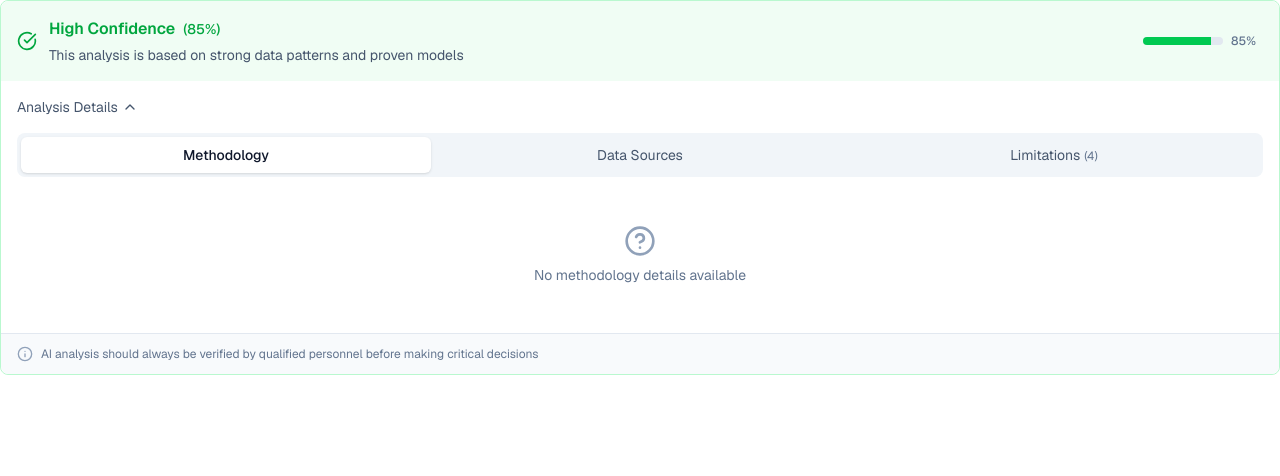
Test: AiConfidenceIndicator › Expandable Details › should show limitations by default
The width and height of the screenshot is (1280, 476).
What coordinates should you click on to do the following:
click the button "Limitations(4)"
I would click on:
 (1054, 155)
Its box is left=849, top=137, right=1259, bottom=173.
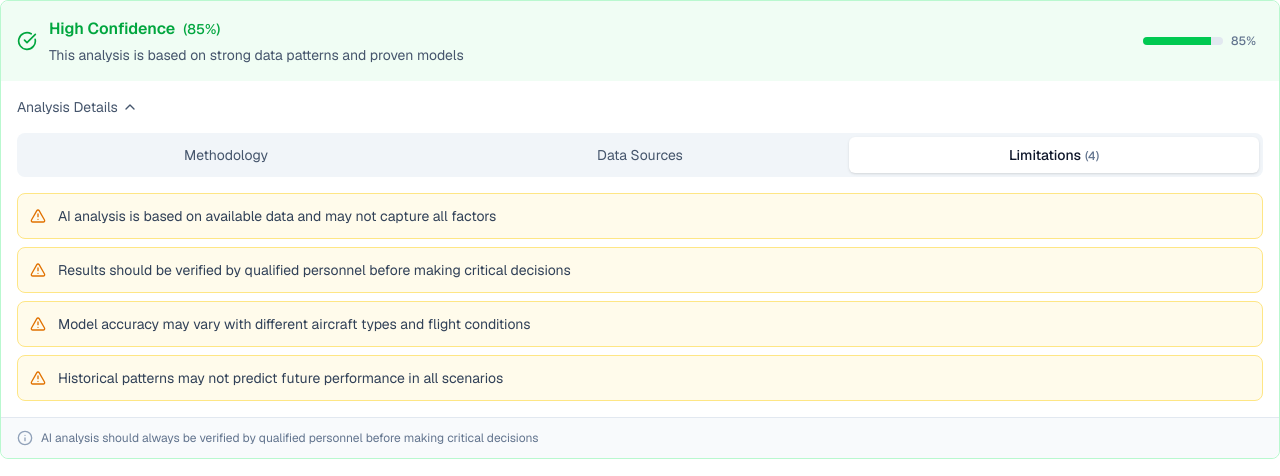
Result: the text "AI analysis is based on available data" is shown at left=58, top=207, right=496, bottom=225
Result: the text "should be verified by qualified personnel" is shown at left=58, top=261, right=571, bottom=279
